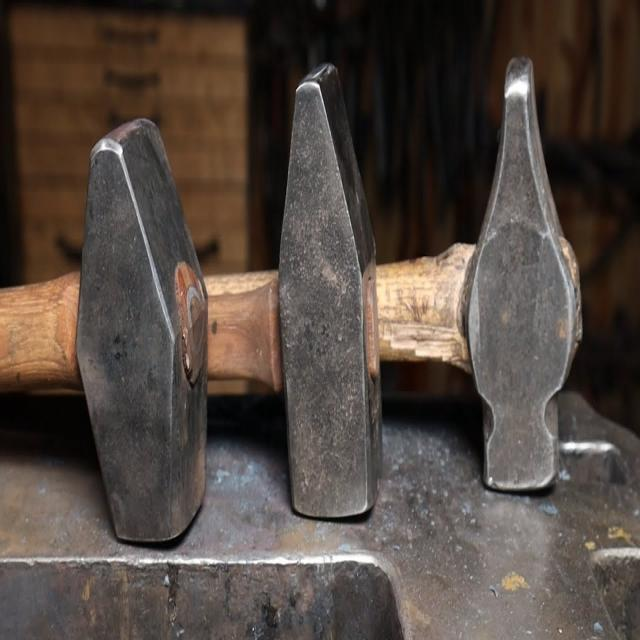hammer: (0, 48, 588, 495), (0, 54, 395, 525), (0, 110, 208, 547)
